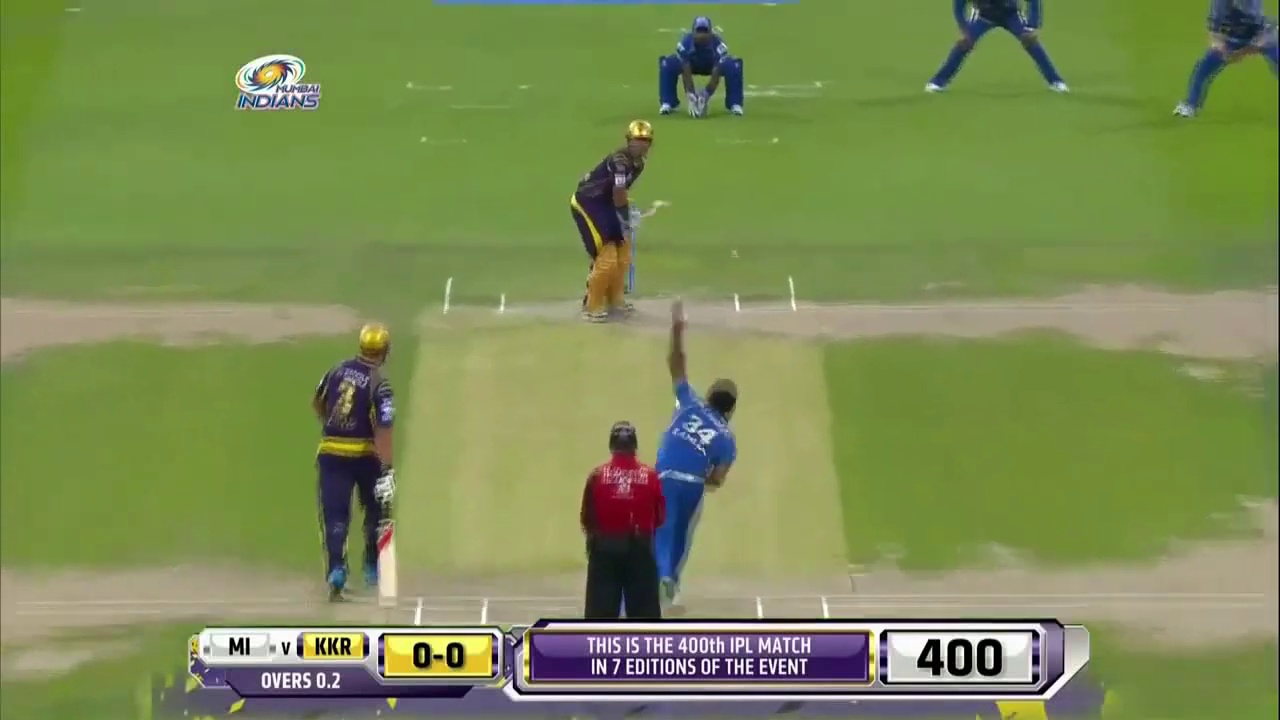bat: (378, 529, 397, 600)
